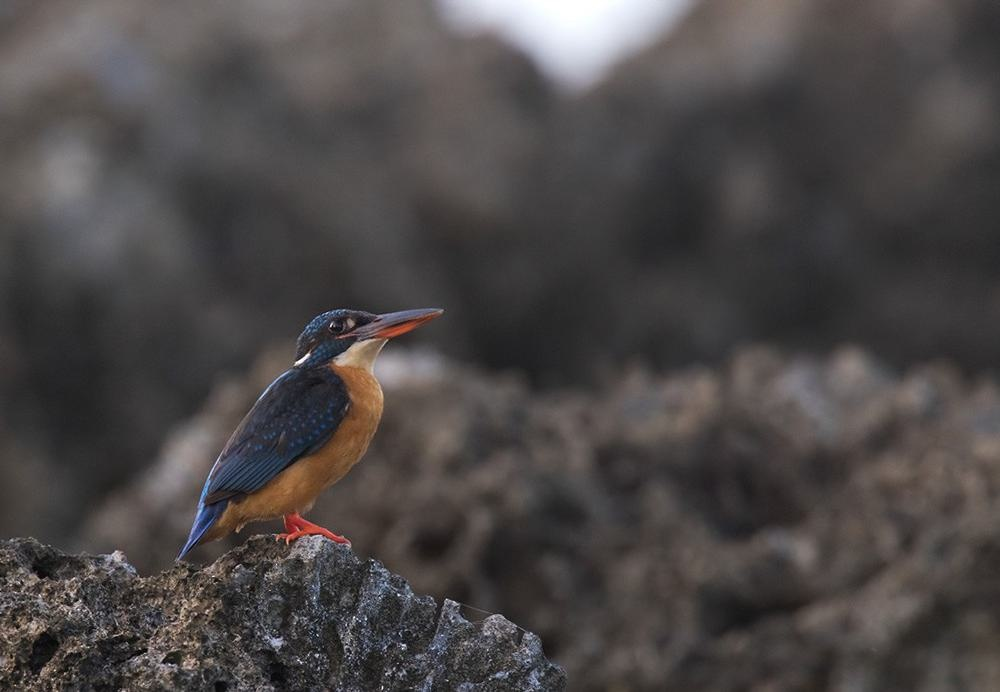kingfisher: (185, 293, 448, 573)
